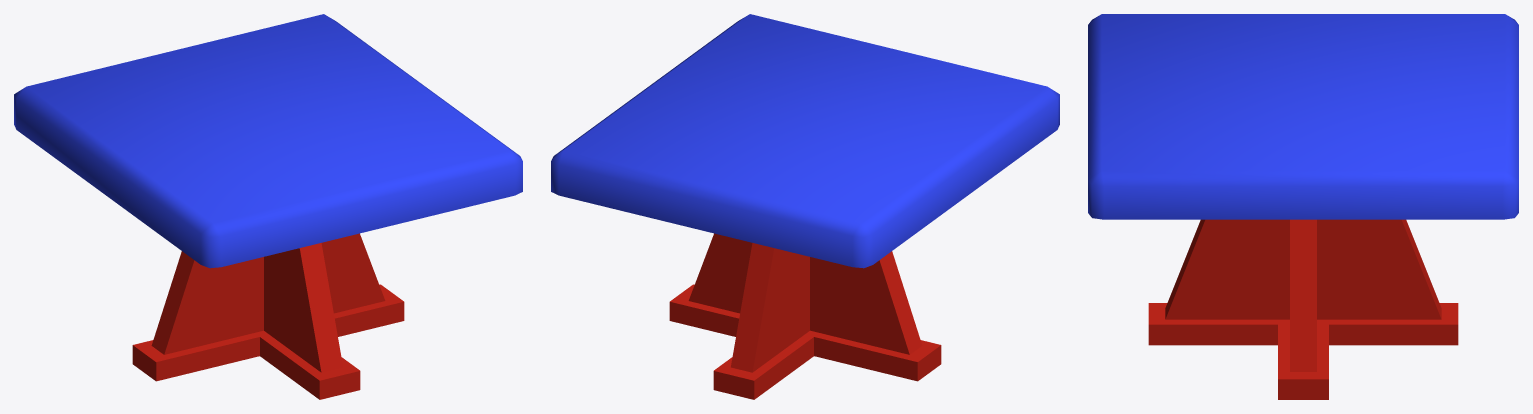
Rendered from ban 2 Japanese.FBX.
3 views of the same model, side by side, from view 1: azimuth 30°, elevation 25°; view 2: azimuth 150°, elevation 25°; view 3: azimuth 270°, elevation 25° (orthographic). The views are drawn at different scales.
Visible parts, largest first — view 1: Object281; view 2: Object281; view 3: Object281.
Part boxes in pixels (x1,y1,x2,y2): Object281: (14,14,522,399); Object281: (551,14,1059,399); Object281: (1088,14,1518,399).
Bounding box in the file's own units: 2.2 × 1.47 × 2.38.
